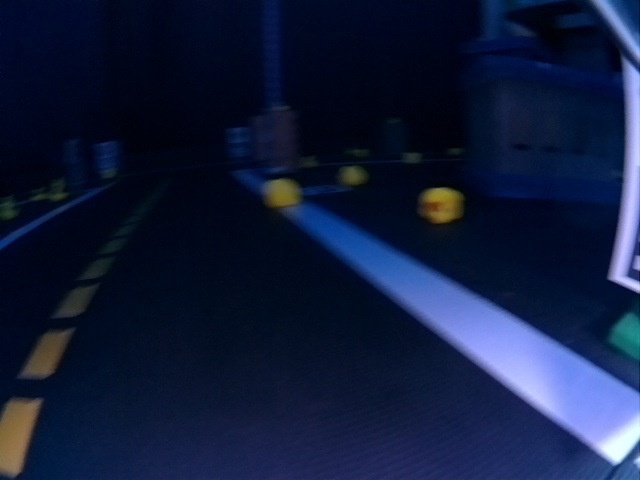Duckie: (423, 186, 460, 224), (265, 181, 298, 206), (343, 165, 361, 184)
